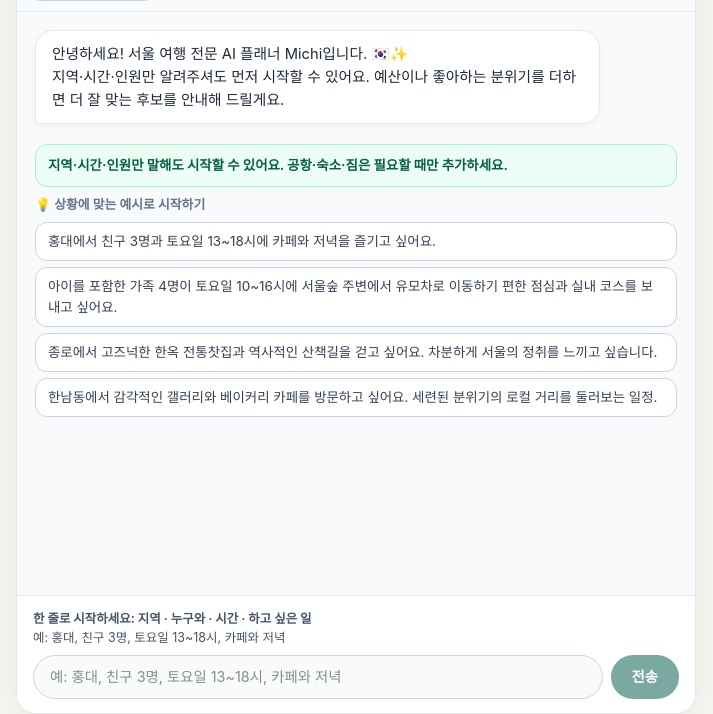
Test: GenerativeChatPlanner › renders a failed dinner request once with an accessible explanation and recovery
(page scrolled)
Type "홍대에서 13~18시 카페와 양식 저녁" into the field at (318, 677), box x1=33 y1=655 x2=602 y2=699
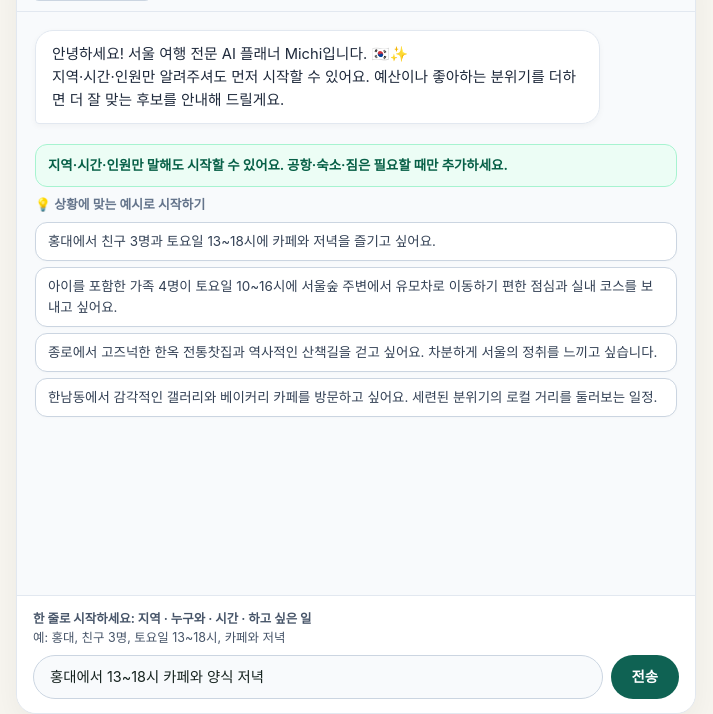
Click the button "전송" at (645, 677), box x1=610 y1=655 x2=679 y2=699
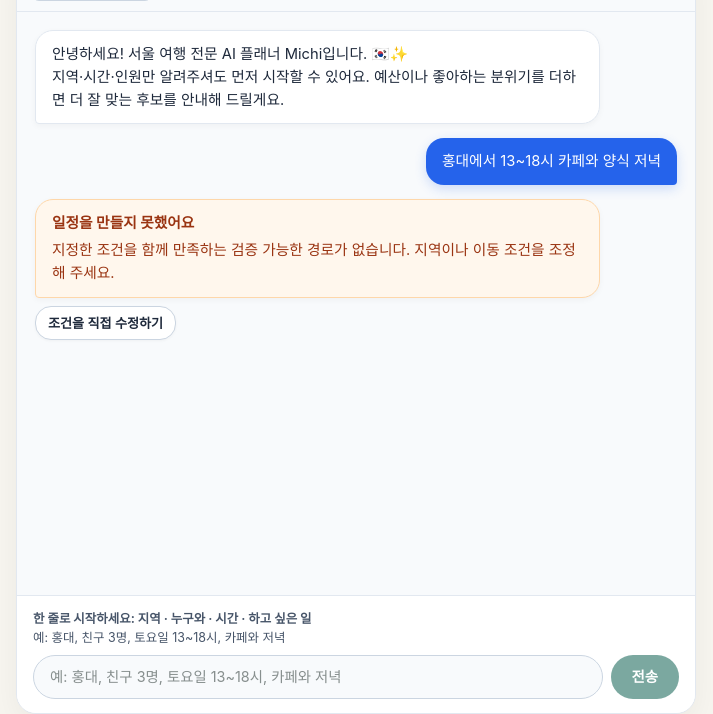
expect the text "지정한 조건을 함께 만족하는 검증 가능한 경로가 없습니다. 지역이나 이동 조건을 조정해 주세요." is shown once: met, box x1=35 y1=199 x2=600 y2=298
expect the message shows "일정을 만들지 못했어요": met, box x1=52 y1=214 x2=194 y2=232
expect the button "조건을 직접 수정하기" is enabled: met, box x1=35 y1=306 x2=176 y2=340
